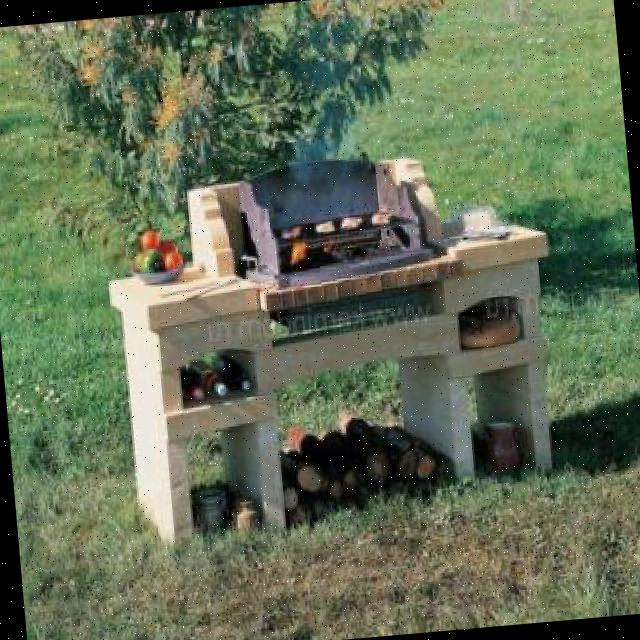fire: (269, 214, 321, 290)
